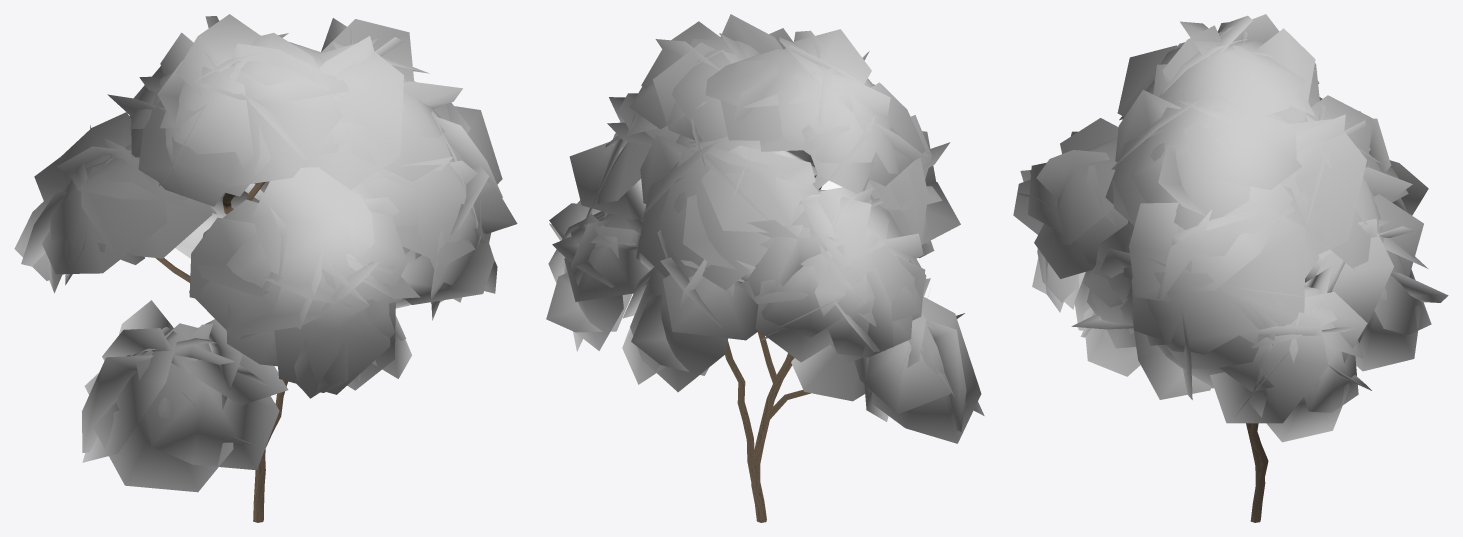
Rendered from MSH_fwOF_TreeSapling_04B.fbx.
The picture shows the model from 3 angles, left to right: view 1: azimuth 30°, elevation 25°; view 2: azimuth 150°, elevation 25°; view 3: azimuth 270°, elevation 25°; orthographic projection. The views are drawn at different scales.
Visible parts, largest first — view 1: MSH_fwOF_TreeSapling_04B_LOD0; view 2: MSH_fwOF_TreeSapling_04B_LOD0; view 3: MSH_fwOF_TreeSapling_04B_LOD0.
Boxes of the visible parts, left/top/right/bottom form: MSH_fwOF_TreeSapling_04B_LOD0: left=14, top=14, right=517, bottom=522; MSH_fwOF_TreeSapling_04B_LOD0: left=546, top=14, right=984, bottom=522; MSH_fwOF_TreeSapling_04B_LOD0: left=1013, top=14, right=1448, bottom=522.
Size of what is drawn, in the model's own units: 2 by 2.39 by 1.94.
